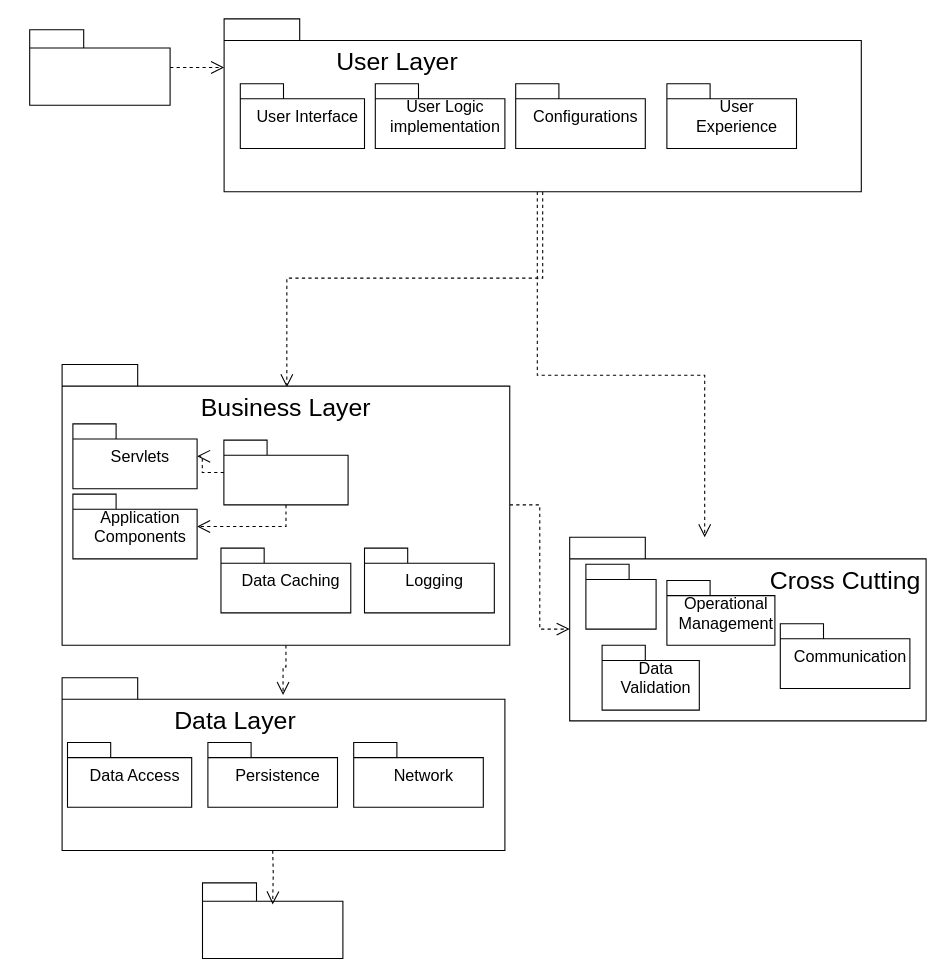
This 945x977 diagram has some shape labels left out. Each missing label, with the centre of its shape:
"Application Facade" belongs at point 285,472.
"Database" belongs at point 272,920.
"Security" belongs at point 620,596.
"Users" belongs at point 99,67.
